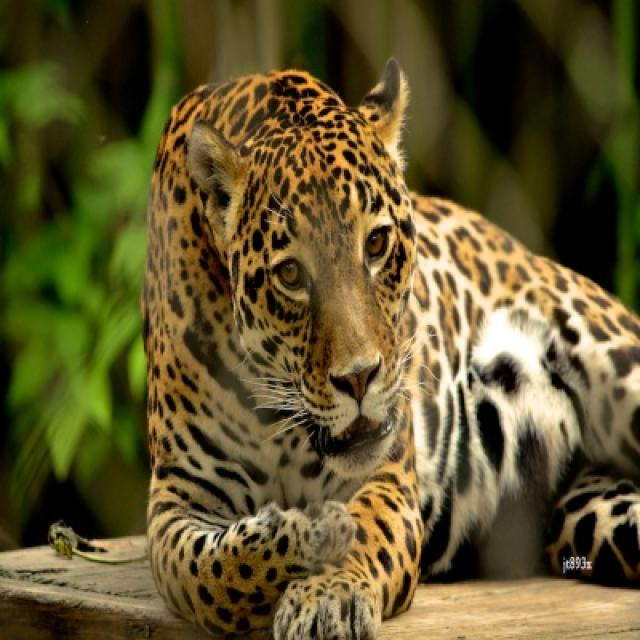Jaguar: (141, 61, 638, 638)
